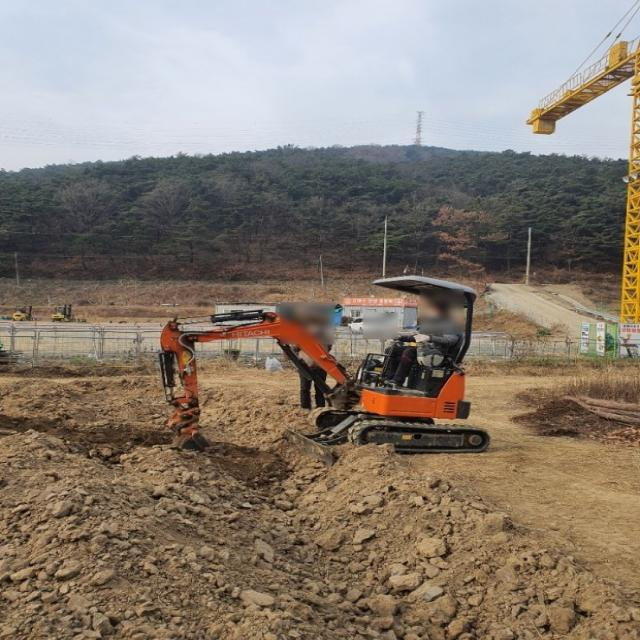excavator: (162, 274, 490, 452)
